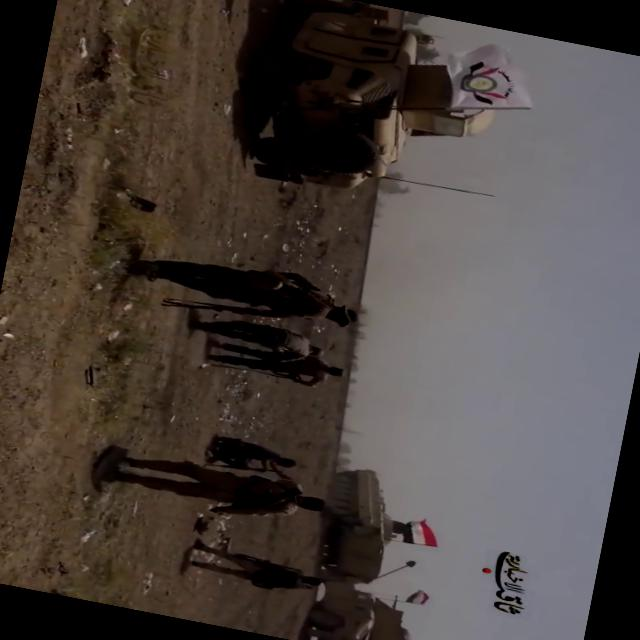long weapon: (200, 470, 312, 531), (150, 288, 286, 338)
